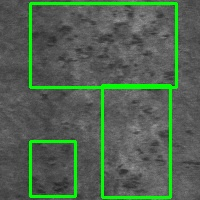rolled-in_scale: (30, 3, 176, 87), (102, 85, 170, 197), (30, 141, 75, 196)
